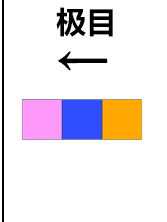arrow: (51, 44, 115, 75)
